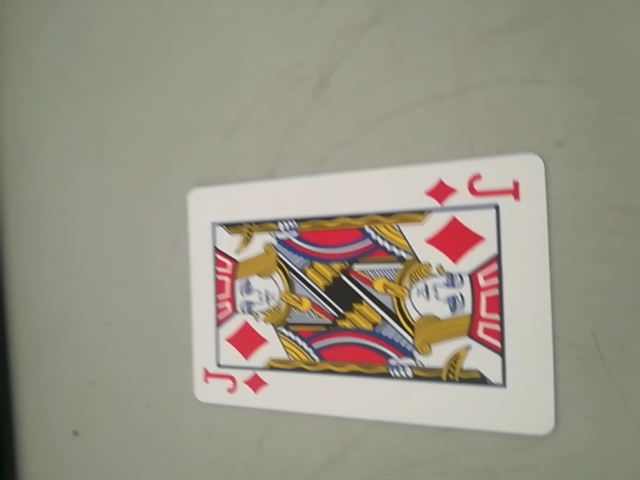fk j: (427, 168, 526, 210), (201, 363, 273, 403)
